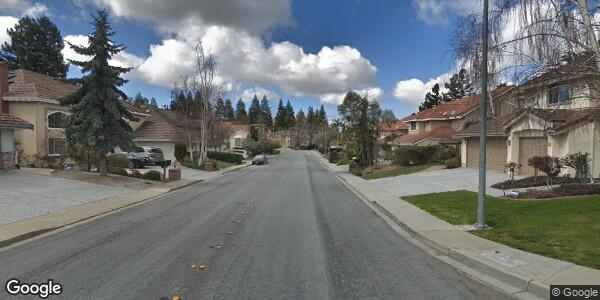Steel_Pole: (472, 1, 495, 229)
